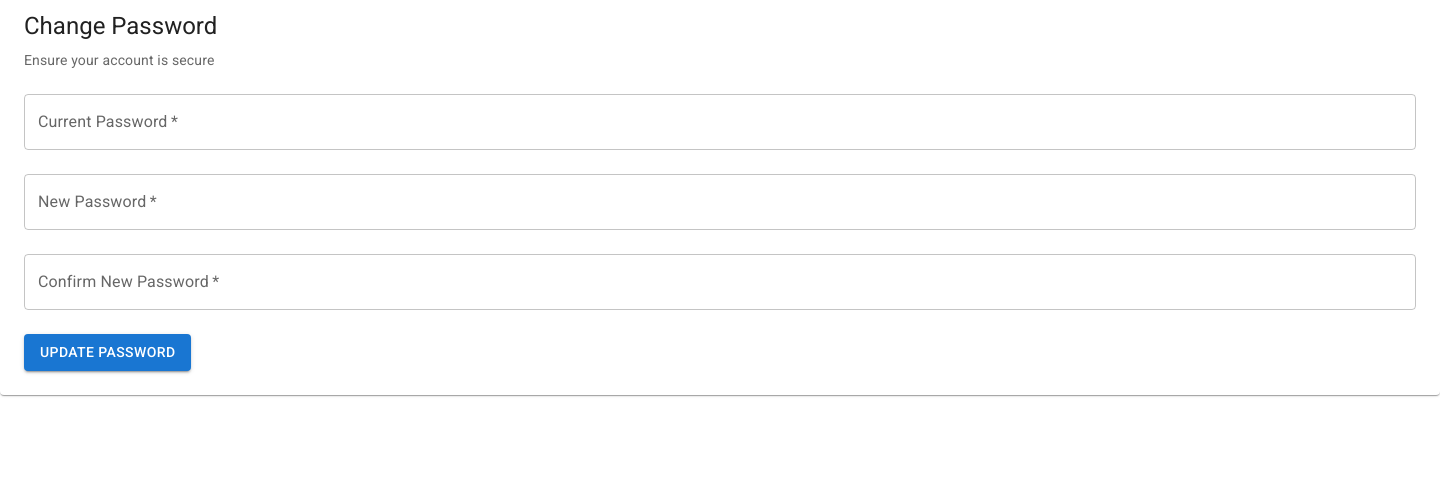
Test: UpdatePasswordForm › shows error if API returns error
Type "wrongpass" into the password field labelled "Current Password *" at (720, 122), box [24,94,1416,150]
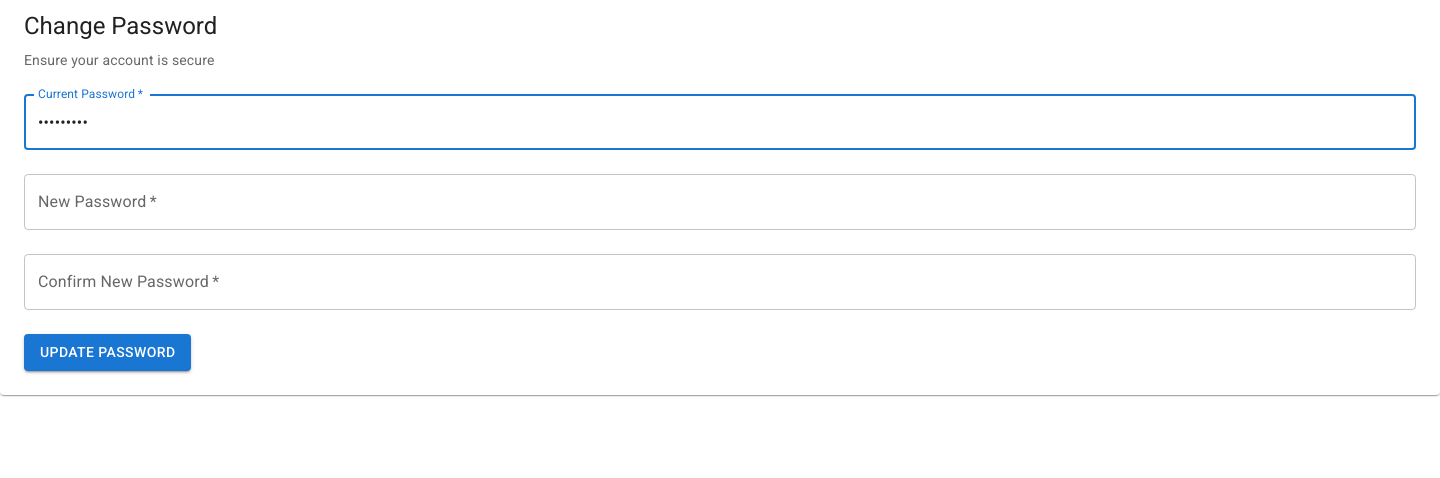
Type "newpass" into the password field labelled "New Password *" at (720, 202), box [24,174,1416,230]
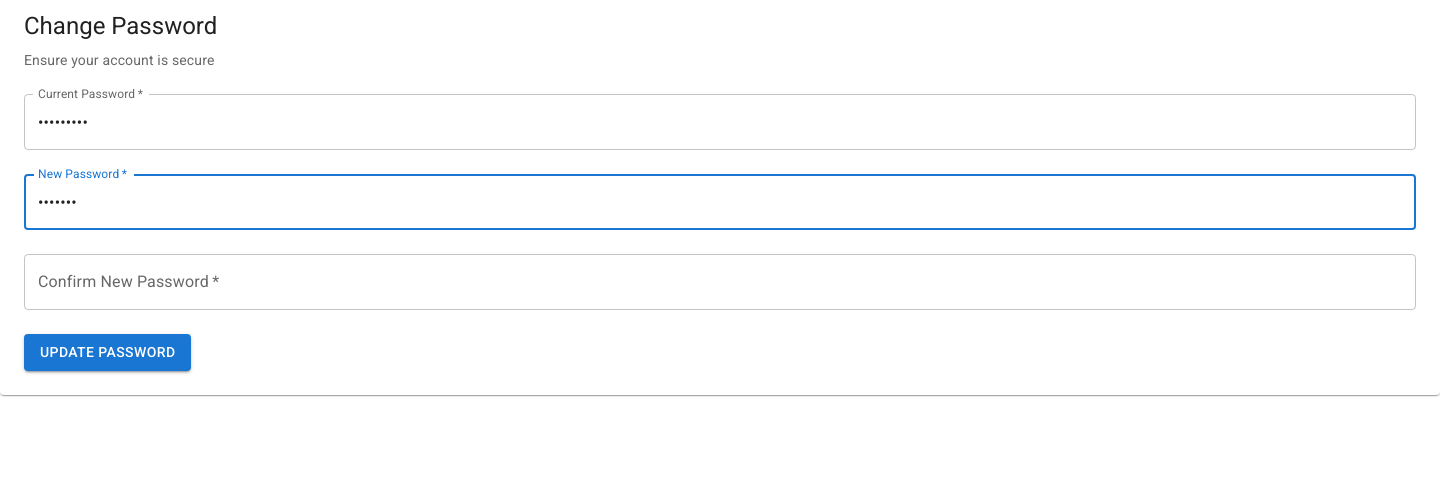
Type "newpass" into the password field labelled "Confirm New Password *" at (720, 282), box [24,254,1416,310]
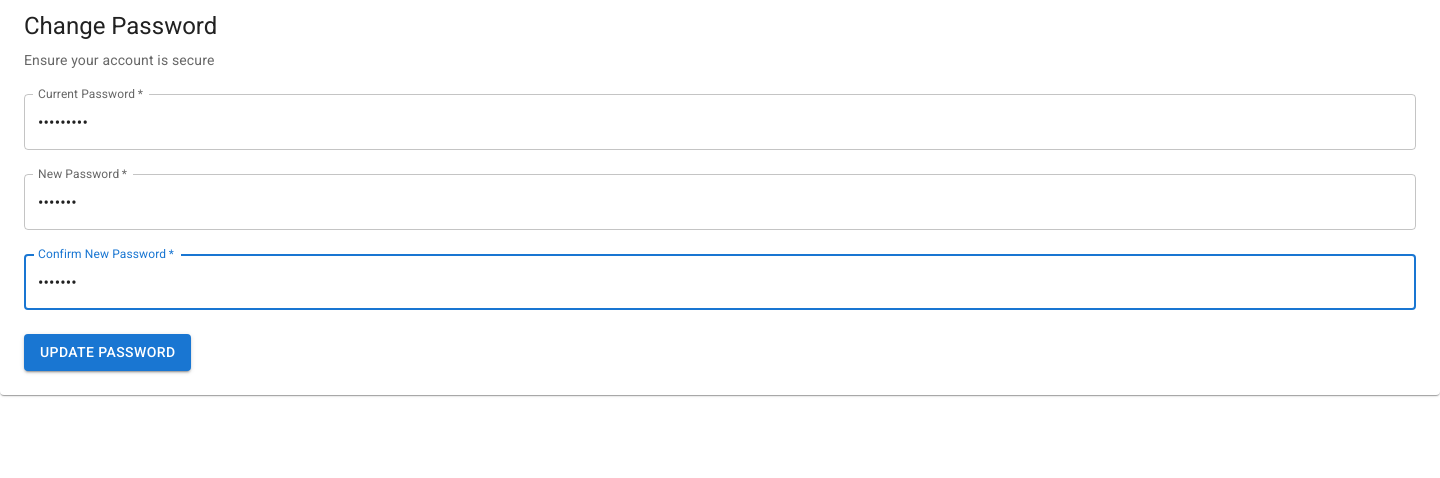
Click the button with test id "update-password-button" at (108, 353), box [24,334,192,371]
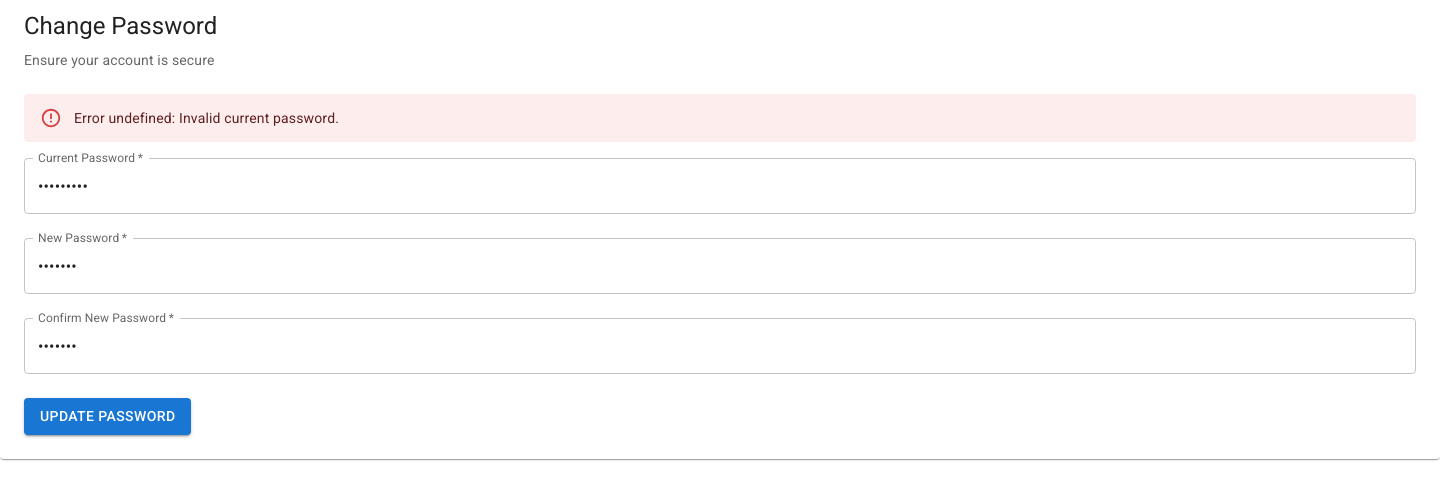
Check: the text "Error undefined: Invalid current password." is shown, box [74,110,339,126]
